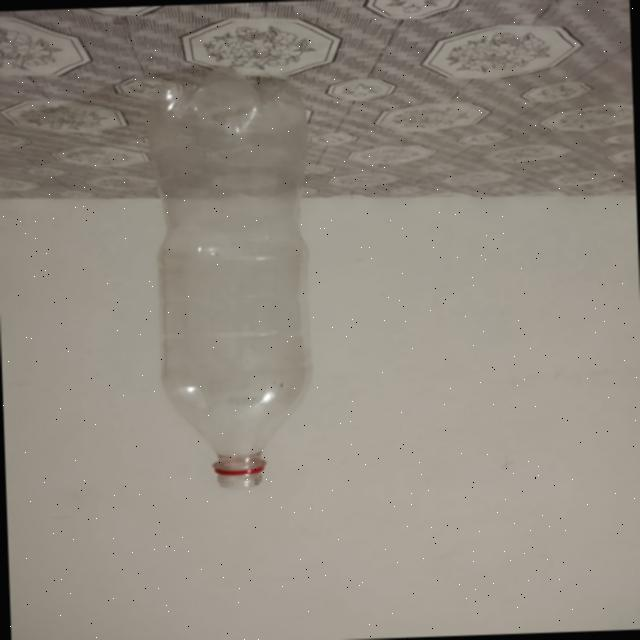bottle: (148, 63, 320, 489)
